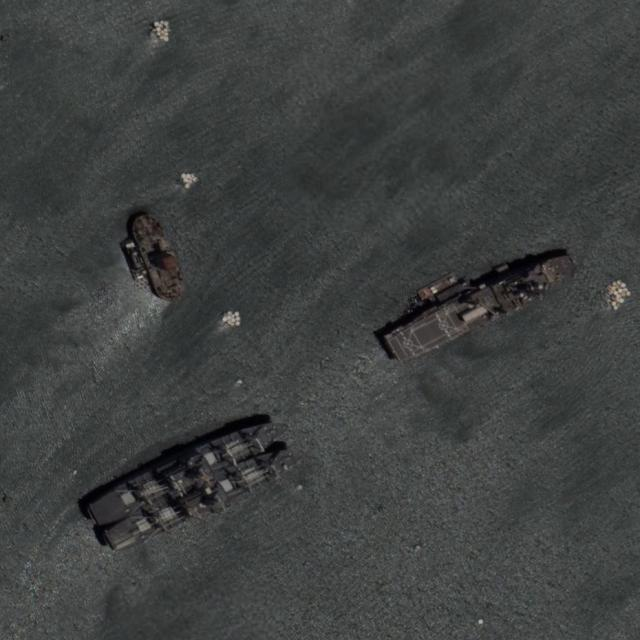Landing: (379, 237, 593, 368)
Other Ship: (82, 405, 292, 531), (98, 437, 311, 561), (129, 210, 189, 303), (120, 235, 149, 283)
